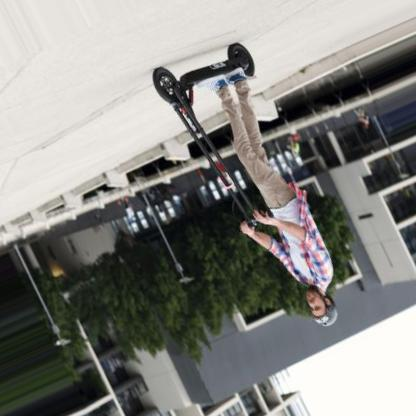scooter: (152, 42, 269, 233)
with helmet: (306, 288, 338, 329)
